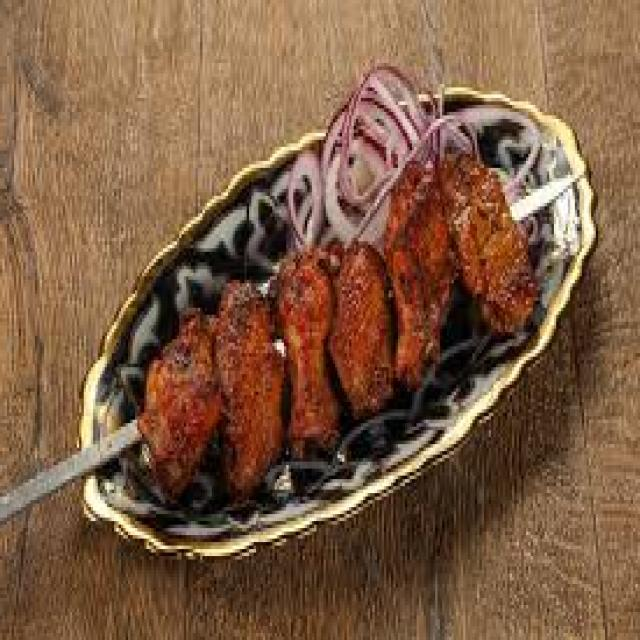Chicken Wings: (130, 147, 526, 500)
Onion Rings: (282, 60, 552, 242)
